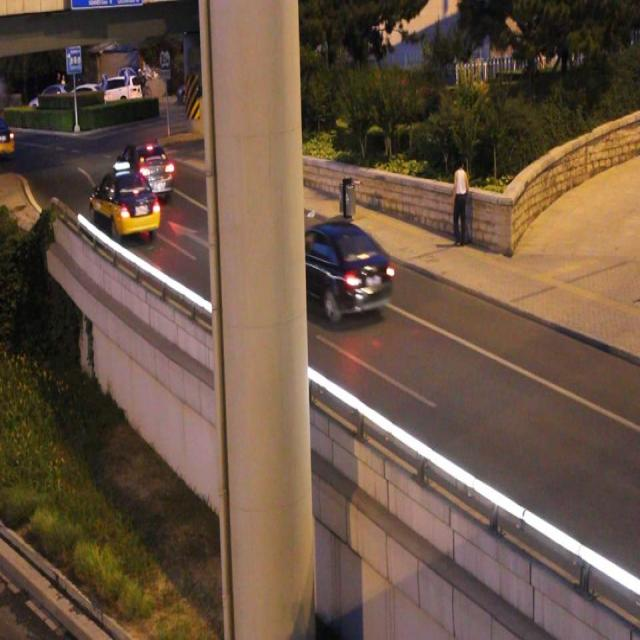car: (285, 223, 392, 320), (93, 169, 158, 238), (116, 146, 172, 198)
